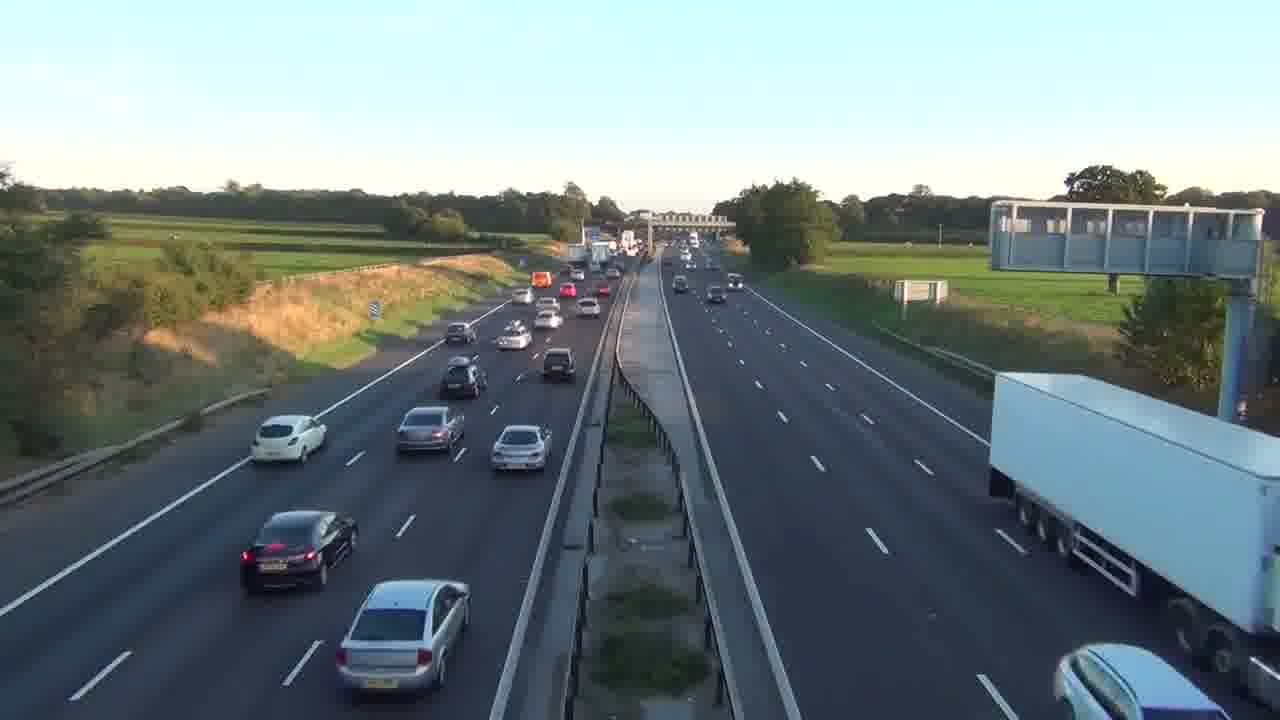car: (335, 577, 471, 699), (1053, 641, 1233, 719), (239, 508, 359, 594), (251, 413, 327, 463), (395, 404, 466, 455), (489, 423, 551, 473), (438, 364, 486, 400), (542, 347, 576, 383), (445, 321, 476, 345), (672, 274, 691, 294)
truck: (986, 371, 1279, 685)
